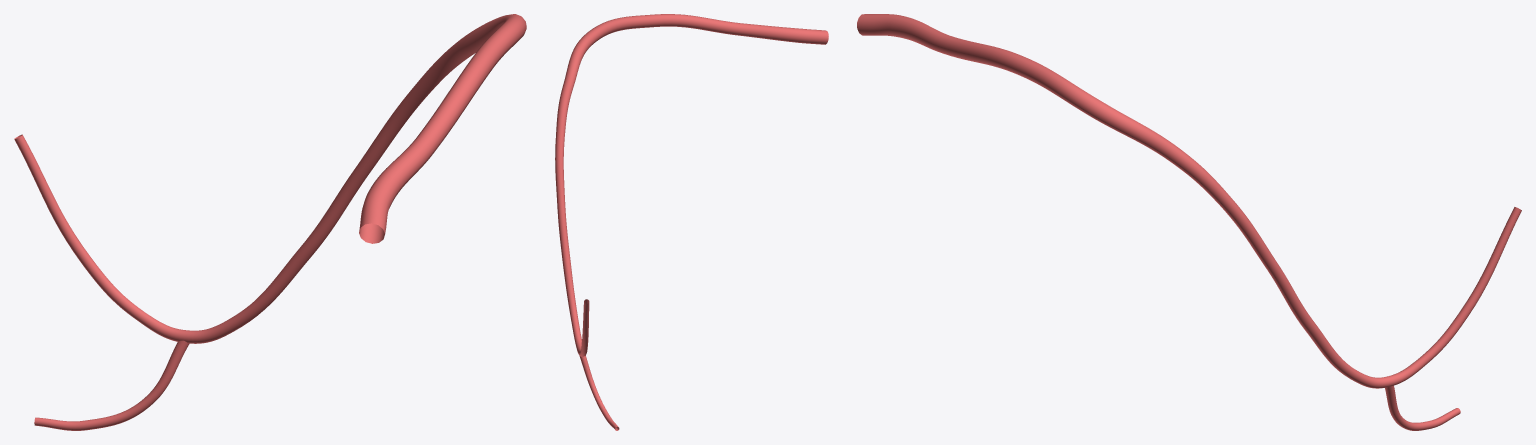
File: Posterior_temporal_branch.l_BezierCurve.219.glb
The picture shows the model from 3 angles, left to right: view 1: azimuth 30°, elevation 25°; view 2: azimuth 150°, elevation 25°; view 3: azimuth 270°, elevation 25°; orthographic projection. The views are drawn at different scales.
Parts seen in each view (by area): view 1: Posterior_temporal_branch.l_BezierCurve.219; view 2: Posterior_temporal_branch.l_BezierCurve.219; view 3: Posterior_temporal_branch.l_BezierCurve.219.
Boxes of the visible parts, x1,y1,x2,y2 form: Posterior_temporal_branch.l_BezierCurve.219: [14, 14, 526, 430]; Posterior_temporal_branch.l_BezierCurve.219: [555, 14, 828, 430]; Posterior_temporal_branch.l_BezierCurve.219: [857, 14, 1521, 430].
Bounding box in the file's own units: 0.0216 × 0.0349 × 0.0485.
